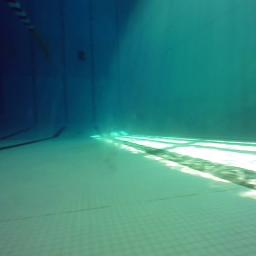Full: (78, 50, 86, 60)
